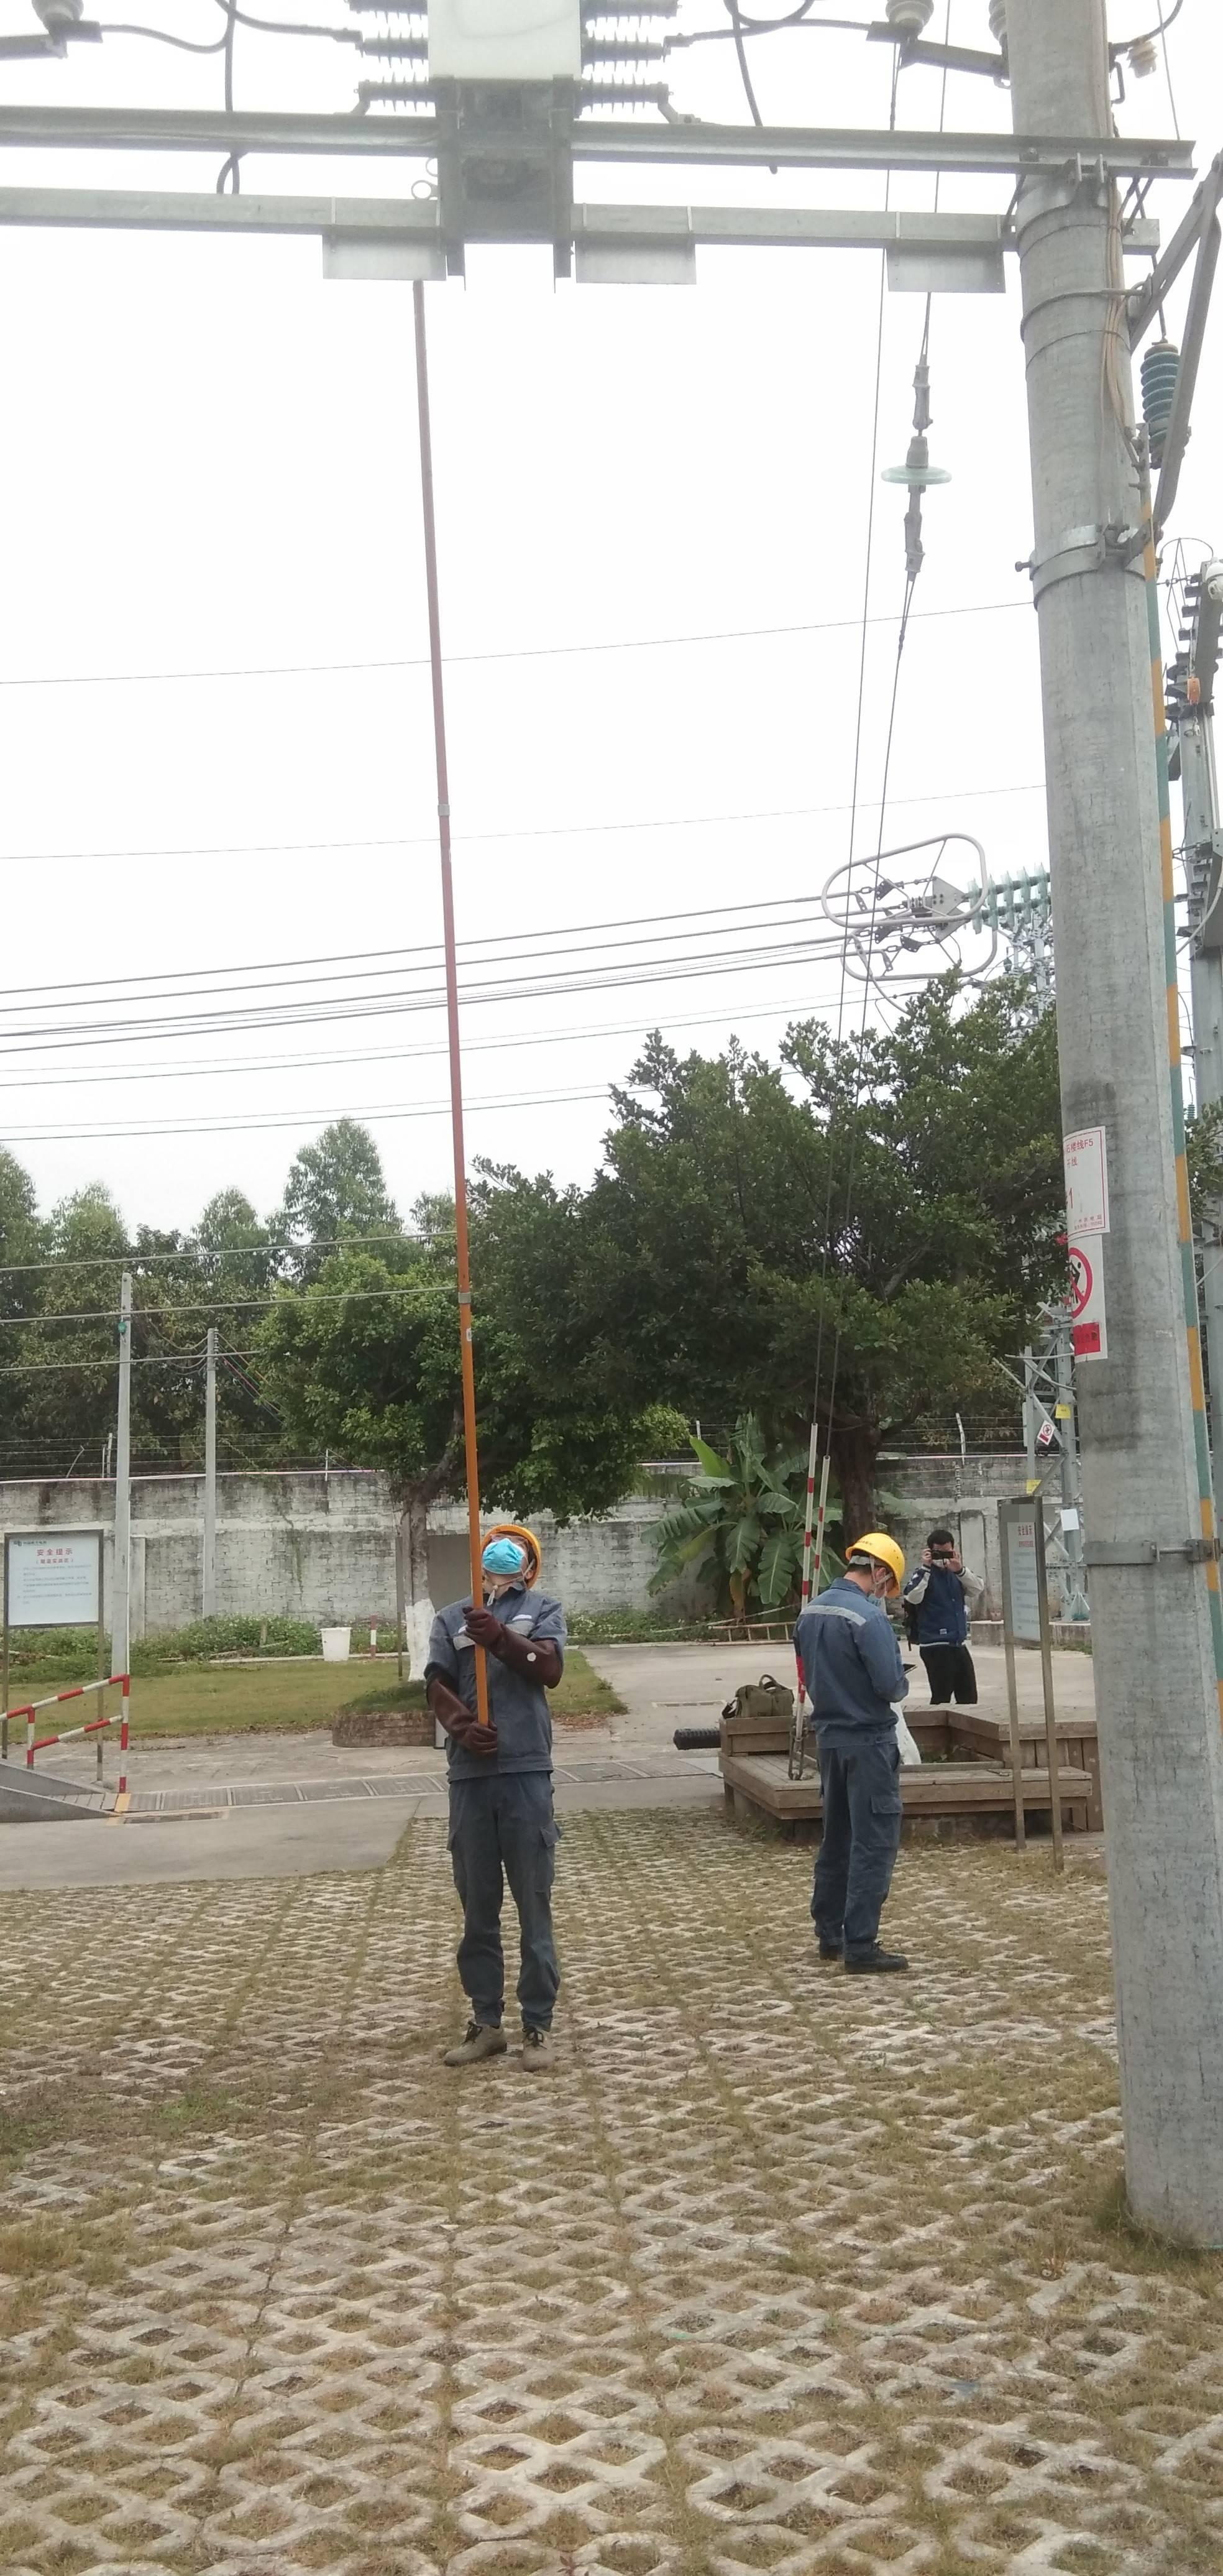downcloth: (926, 1649, 980, 1709)
downsuit: (451, 1786, 555, 2003)
upcloth: (906, 1564, 972, 1646)
upsuit: (430, 1594, 563, 1781), (818, 1748, 901, 1957), (795, 1592, 903, 1743)
wrongbottom: (479, 1528, 538, 1590)
